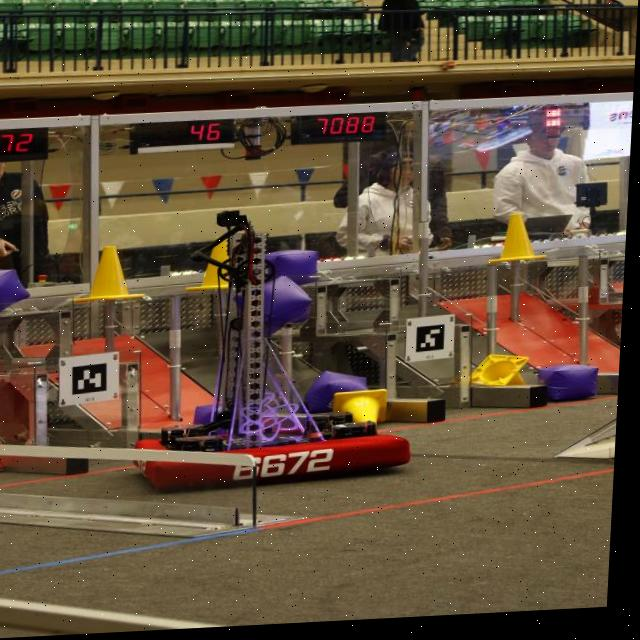robot: (113, 188, 434, 493)
